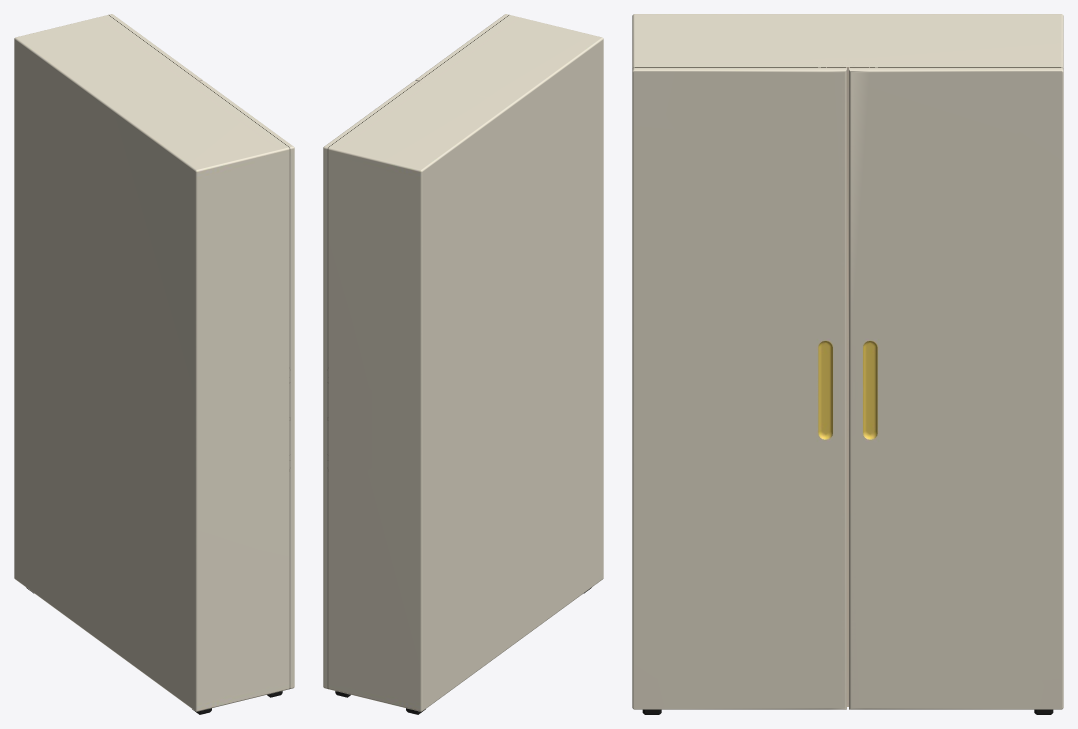
Rendered from Closet.fbx.
3 views of the same model, side by side, from view 1: azimuth 30°, elevation 25°; view 2: azimuth 150°, elevation 25°; view 3: azimuth 270°, elevation 25° (orthographic). The views are drawn at different scales.
Visible parts, largest first — view 1: Cube; view 2: Cube; view 3: Cube.
Boxes of the visible parts, left/top/right/bottom form: Cube: left=14, top=14, right=294, bottom=714; Cube: left=323, top=14, right=603, bottom=714; Cube: left=632, top=14, right=1063, bottom=714.
Bounding box in the file's own units: 56.39 × 299 × 180.
Materials: 1 (1 with a texture image).
